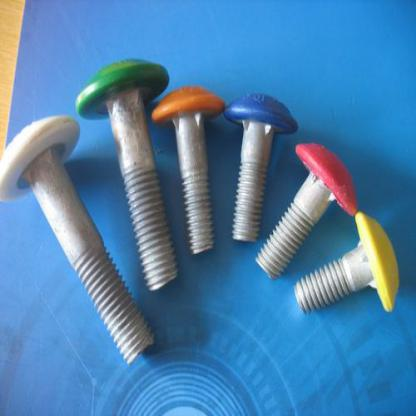FOD: (0, 112, 157, 367), (73, 57, 178, 290), (255, 142, 358, 282), (150, 81, 226, 258), (289, 209, 402, 318), (224, 92, 297, 244)
